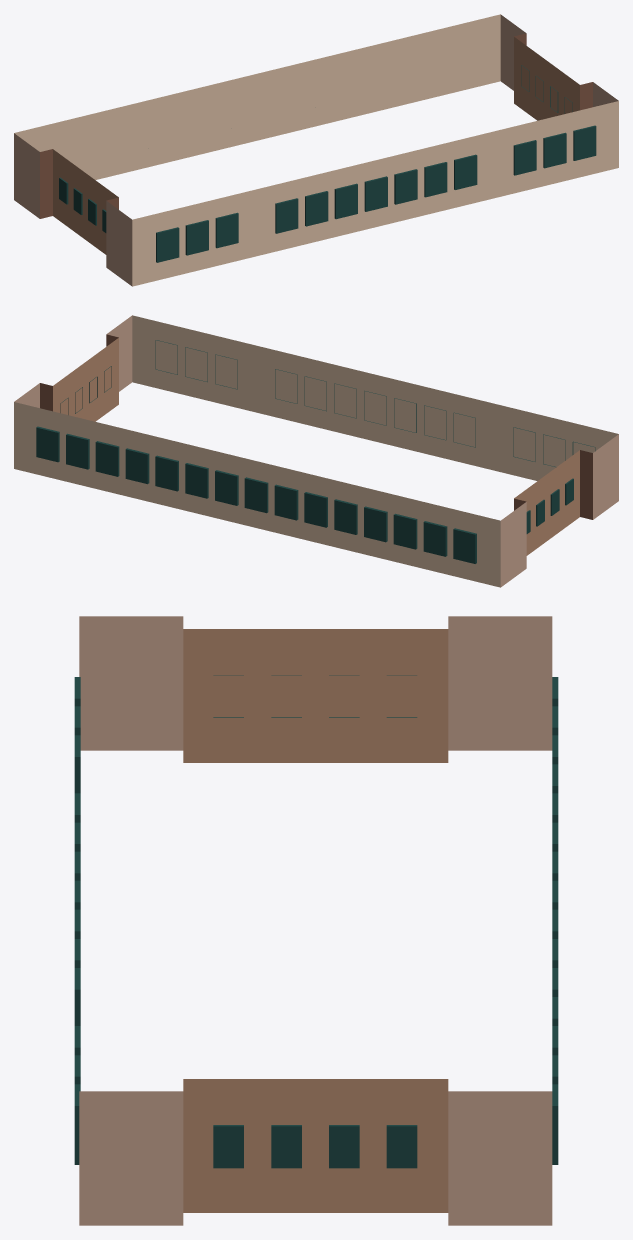
Rendered from TB_CITY_Skysc_J_UpperBodyB_Brown.FBX.
The picture shows the model from 3 angles, top to bottom: view 1: azimuth 30°, elevation 25°; view 2: azimuth 150°, elevation 25°; view 3: azimuth 270°, elevation 25°; orthographic projection. The views are drawn at different scales.
Parts seen in each view (by area): view 1: TB_CITY_Skysc_J_UpperBodyB_Brown; view 2: TB_CITY_Skysc_J_UpperBodyB_Brown; view 3: TB_CITY_Skysc_J_UpperBodyB_Brown.
Boxes of the visible parts, x1,y1,x2,y2 form: TB_CITY_Skysc_J_UpperBodyB_Brown: (14,14,618,286); TB_CITY_Skysc_J_UpperBodyB_Brown: (14,315,618,587); TB_CITY_Skysc_J_UpperBodyB_Brown: (74,616,558,1225).
Bounding box in the file's own units: 38 × 5 × 16.35.
